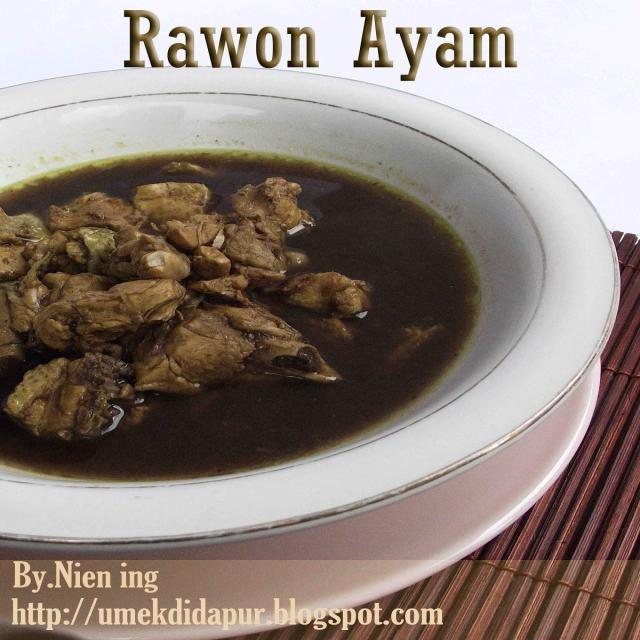Rawon: (8, 154, 457, 448)
